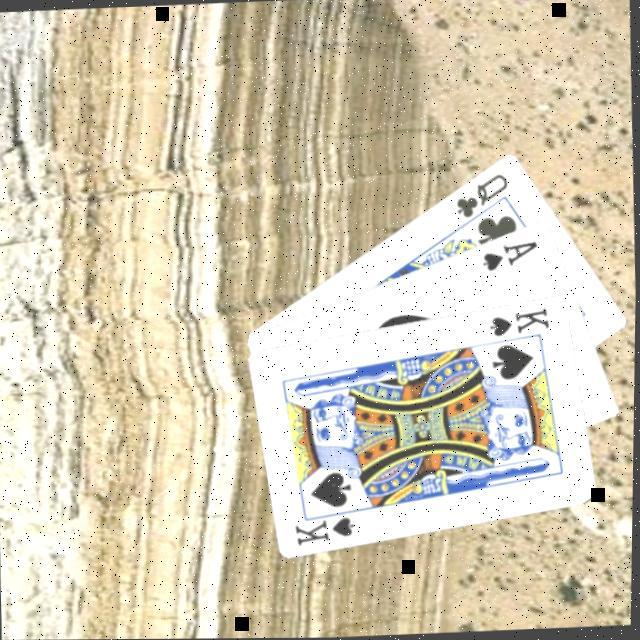AS: (478, 237, 541, 274)
KS: (292, 506, 363, 548), (484, 305, 552, 341)
QC: (450, 170, 513, 222)
